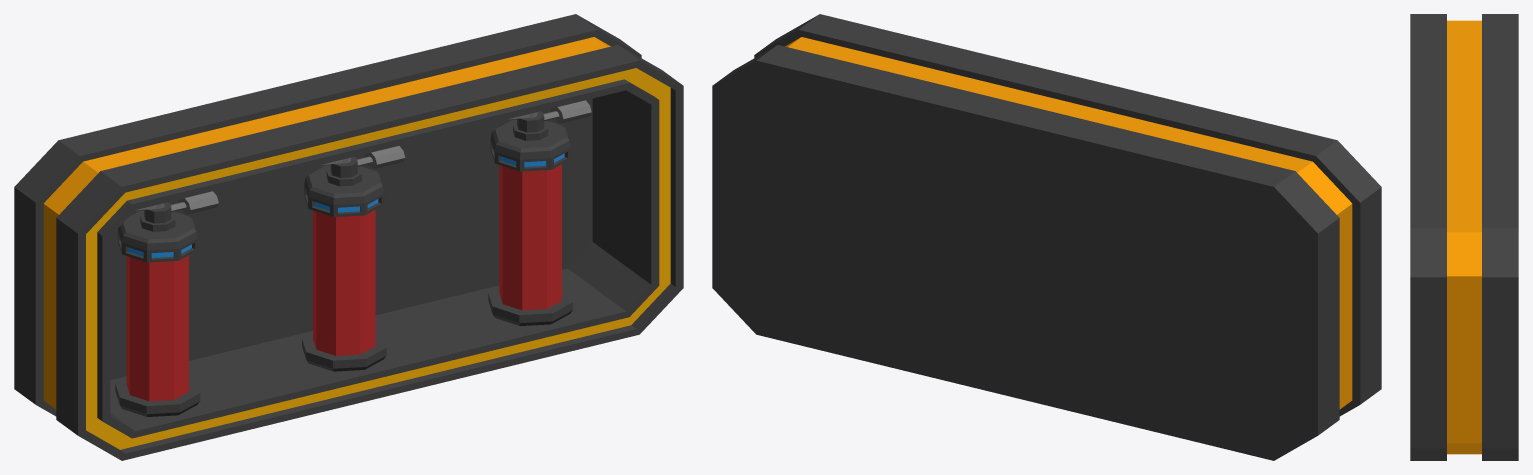
File: Fire extinguishe Stan .fbx
3 views of the same model, side by side, from view 1: azimuth 30°, elevation 25°; view 2: azimuth 150°, elevation 25°; view 3: azimuth 270°, elevation 25° (orthographic). The views are drawn at different scales.
Parts seen in each view (by area): view 1: Cube.080, Cylinder.017, Cylinder.018, Cylinder.016; view 2: Cube.080; view 3: Cube.080.
Boxes of the visible parts, box(x1,y1,x2,y2) form: Cube.080: box(14, 14, 683, 460); Cylinder.017: box(302, 146, 405, 371); Cylinder.018: box(488, 100, 591, 325); Cylinder.016: box(115, 191, 218, 416); Cube.080: box(712, 14, 1381, 460); Cube.080: box(1410, 14, 1518, 460).
Bounding box in the file's own units: 1.3 × 0.562 × 0.2367.
